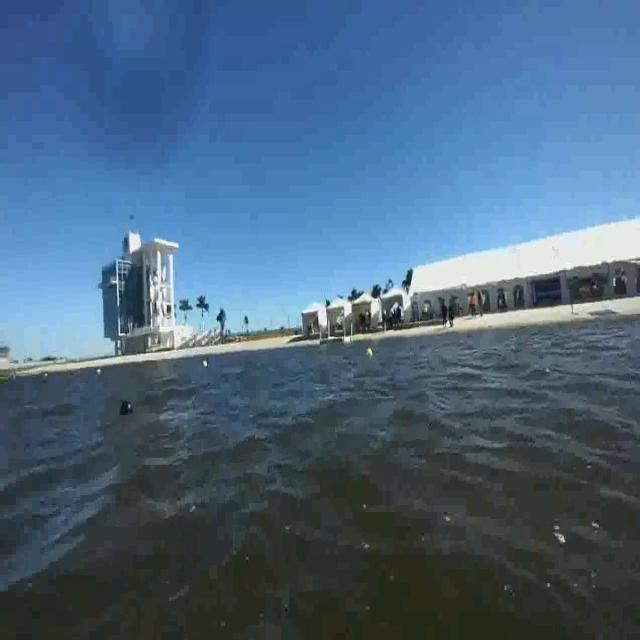black-buoy: (118, 396, 133, 422)
yellow-buoy: (366, 346, 373, 358)
